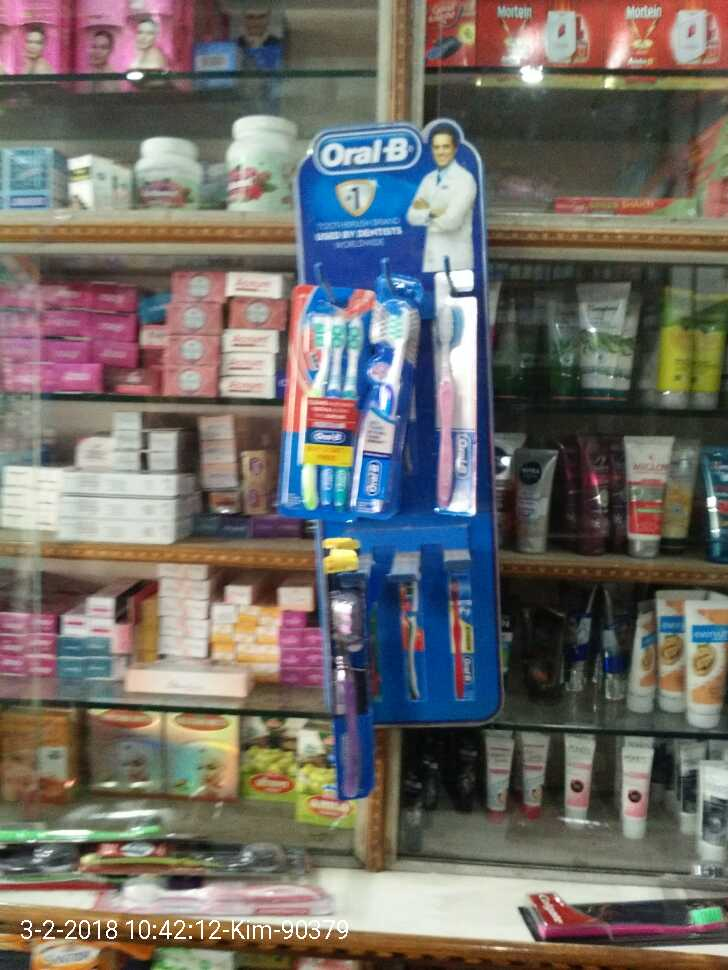oralb: (298, 295, 478, 519)
